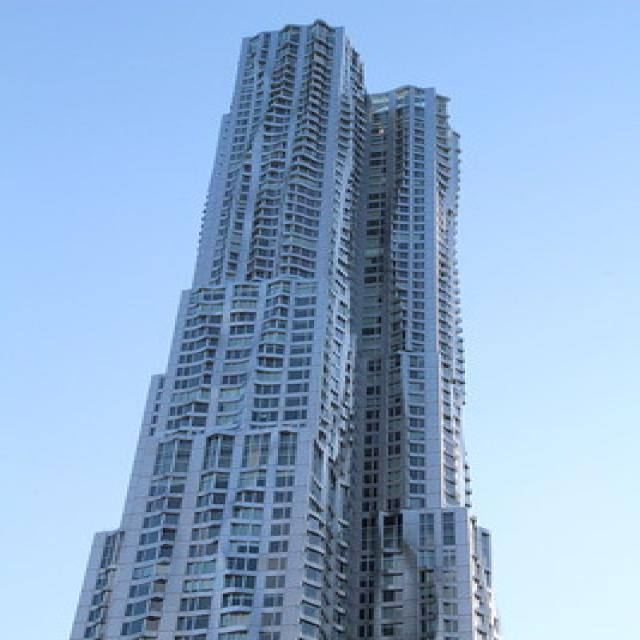building: (80, 18, 507, 640)
